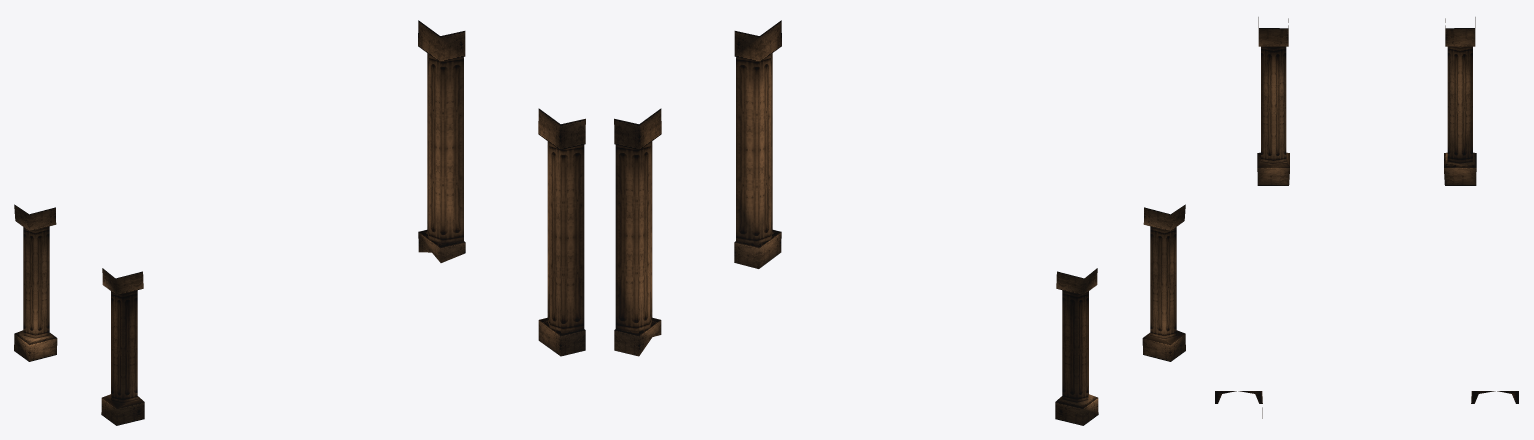
Rendered from test-pillars-solid.glb.
The picture shows the model from 3 angles, left to right: view 1: azimuth 30°, elevation 25°; view 2: azimuth 150°, elevation 25°; view 3: azimuth 270°, elevation 25°; orthographic projection. The views are drawn at different scales.
Visible parts, largest first — view 1: pillars; view 2: pillars; view 3: pillars.
Part boxes in pixels (bbox=[...]): pillars: bbox=[14, 20, 585, 425]; pillars: bbox=[614, 20, 1185, 425]; pillars: bbox=[1215, 17, 1518, 418].
Size of the model in its own units: 273 by 135 by 151.
Materials: 3 (3 with a texture image).
